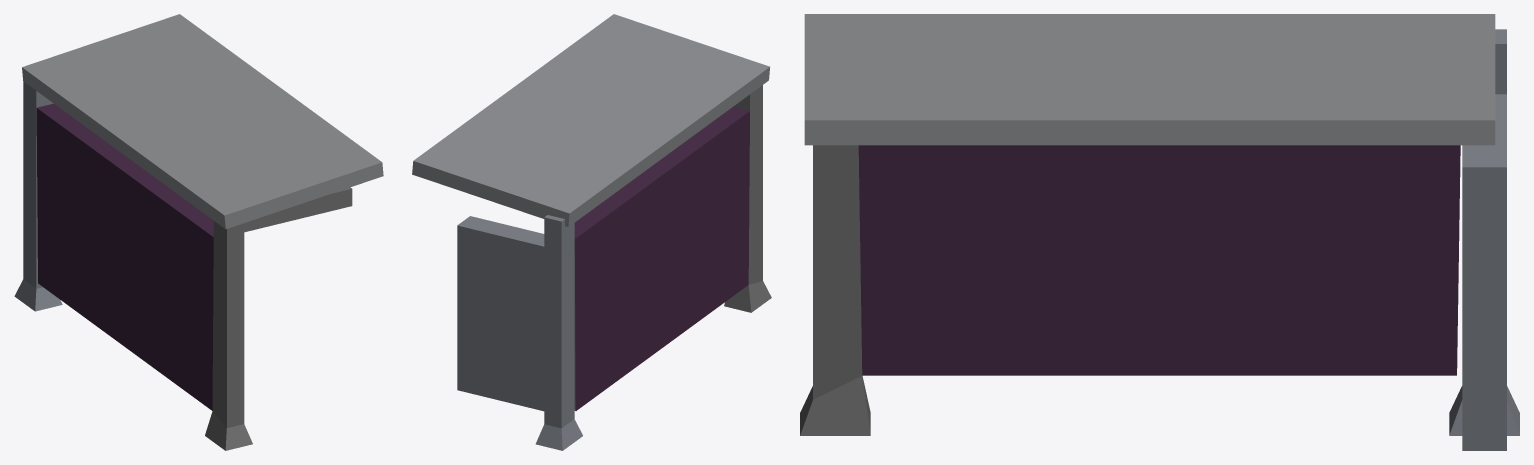
File: BusStop.fbx
3 views of the same model, side by side, from view 1: azimuth 30°, elevation 25°; view 2: azimuth 150°, elevation 25°; view 3: azimuth 270°, elevation 25° (orthographic). The views are drawn at different scales.
Visible parts, largest first — view 1: BusStop; view 2: BusStop; view 3: BusStop.
Part boxes in pixels (left/top/right/bottom): BusStop: left=14, top=14, right=383, bottom=450; BusStop: left=412, top=14, right=771, bottom=450; BusStop: left=800, top=14, right=1519, bottom=450.
Bounding box in the file's own units: 375 × 560 × 861.
